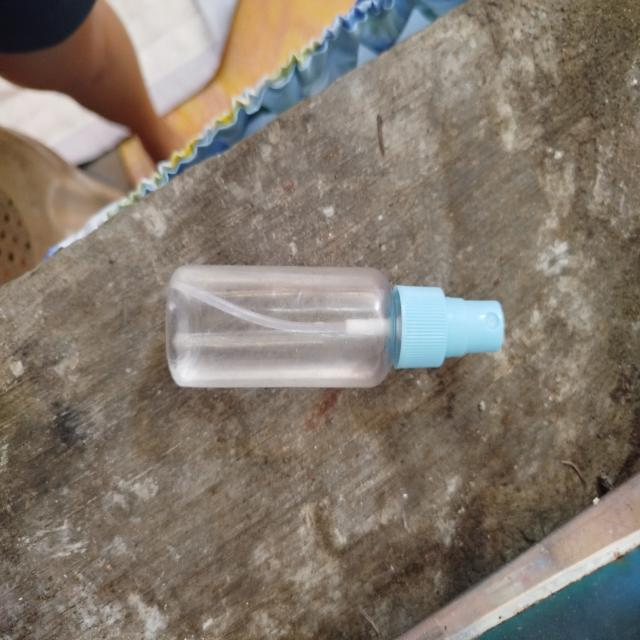plastic: (148, 244, 525, 422)
